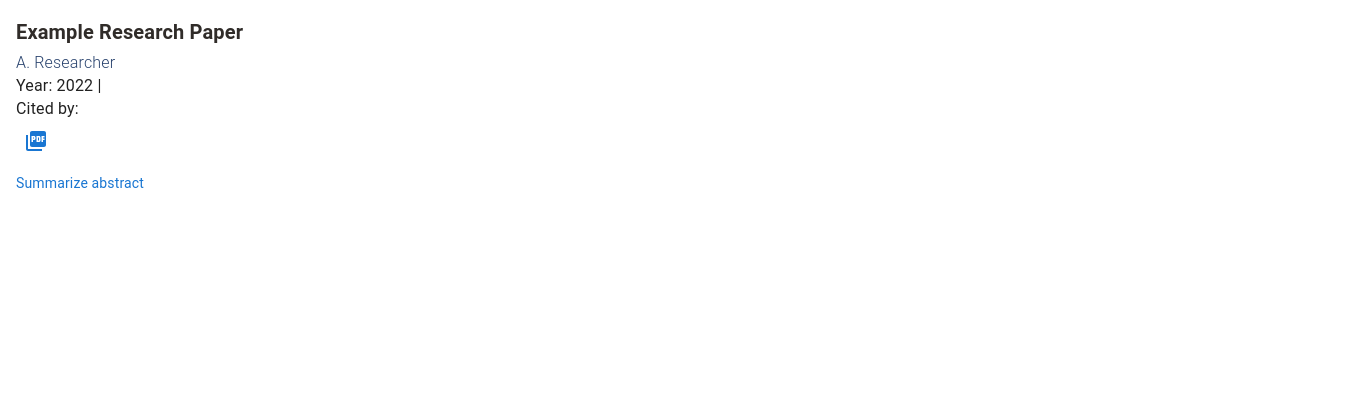
paper abstract summary action › shows a deduplicated title, author/year, abstract-only basis, and no source links
Click the text "Summarize abstract".
click(80, 183)  # box [16,173,144,193]
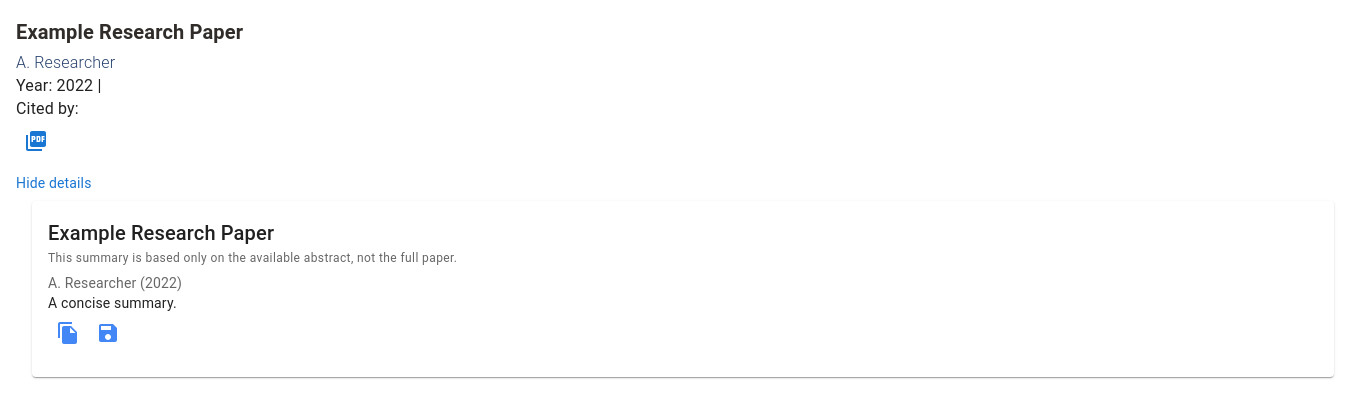
Expected: the text "A concise summary." is shown, [48,295,177,311]
Expected: the text "based only on the available abstract" is shown, [48,251,457,265]
Expected: the text "A. Researcher (2022)" is shown, [48,274,182,290]
